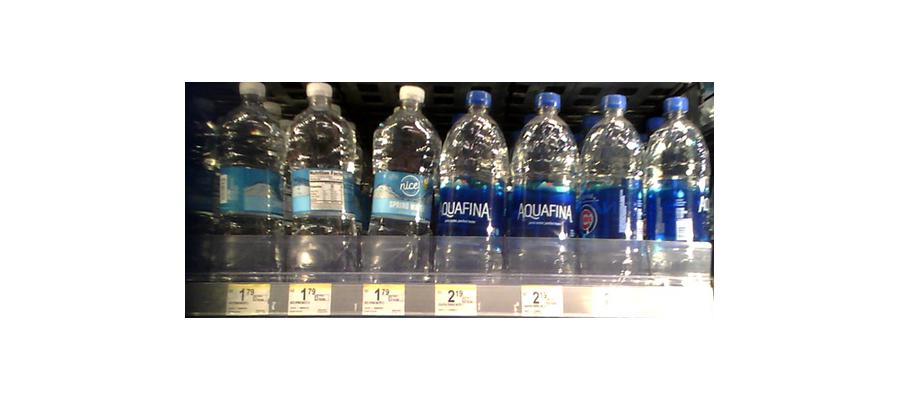bottle: (286, 81, 358, 279), (436, 84, 507, 283), (362, 85, 435, 276), (214, 82, 282, 280), (509, 88, 577, 281), (579, 91, 642, 283), (648, 93, 707, 276)
